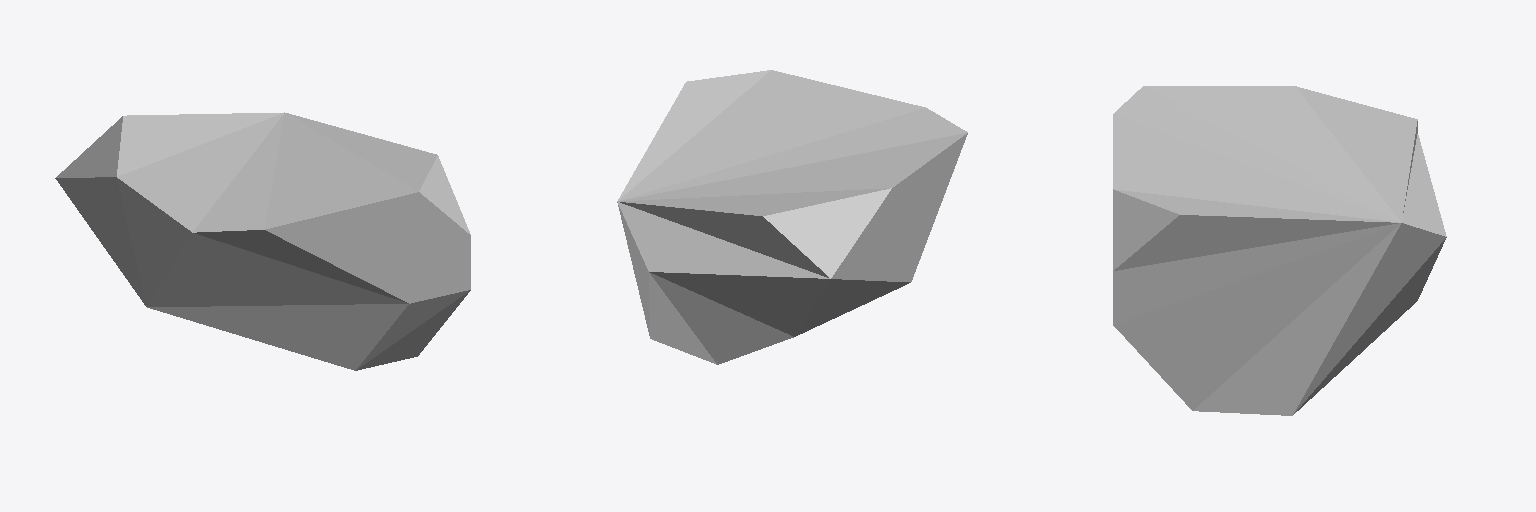
File: Rock1.obj
The picture shows the model from 3 angles: view 1: azimuth 30°, elevation 25°; view 2: azimuth 150°, elevation 25°; view 3: azimuth 270°, elevation 25°; orthographic projection.
Parts seen in each view (by area): view 1: Cube; view 2: Cube; view 3: Cube.
Part boxes in pixels (left/top/right/bottom): Cube: left=55, top=112, right=470, bottom=370; Cube: left=617, top=70, right=967, bottom=364; Cube: left=1113, top=86, right=1446, bottom=415.
Bounding box in the file's own units: 2 × 1.53 × 2.19.